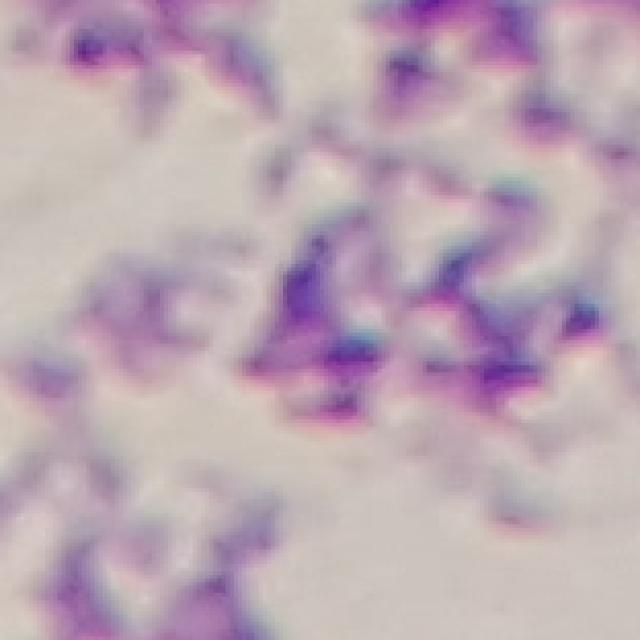non-sperm: (244, 204, 636, 427)
